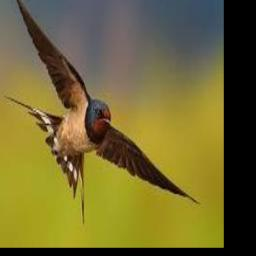Swallow: (5, 0, 200, 223)
